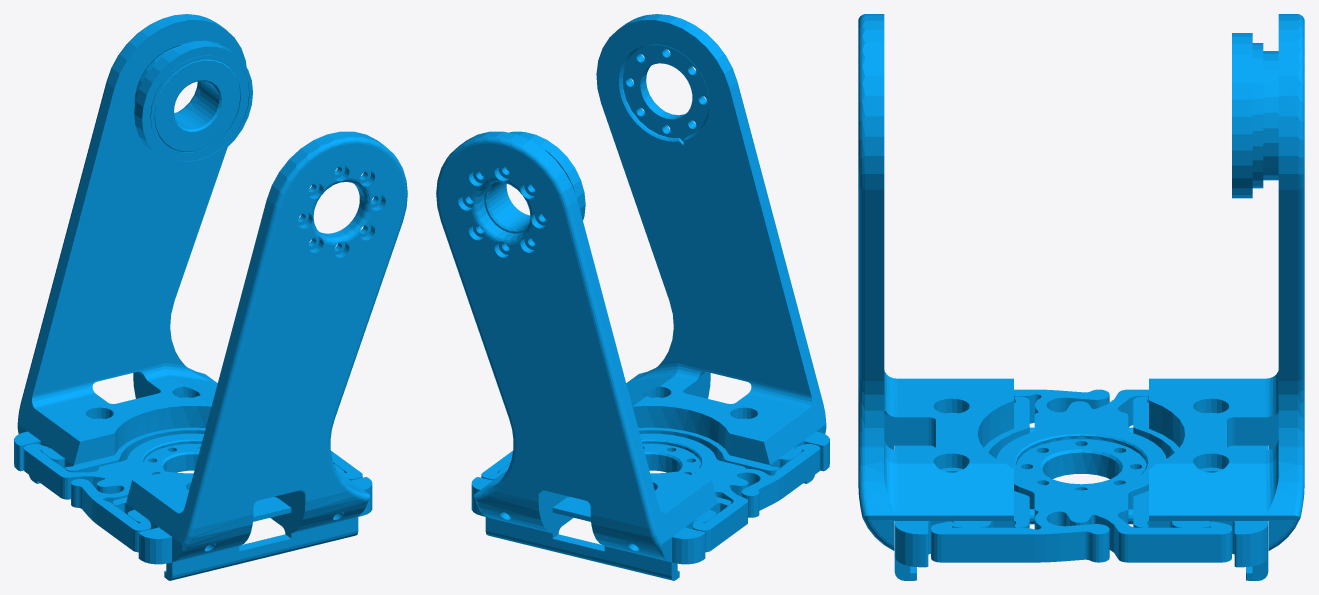
Rendered from flange_c_long_new.dae.
3 renders of one model, left to right at view 1: azimuth 30°, elevation 25°; view 2: azimuth 150°, elevation 25°; view 3: azimuth 270°, elevation 25°, orthographic. The views are drawn at different scales.
Visible parts, largest first — view 1: flange_c_long_new; view 2: flange_c_long_new; view 3: flange_c_long_new.
Part boxes in pixels (x1,y1,x2,y2): flange_c_long_new: (14, 14, 407, 580); flange_c_long_new: (436, 14, 829, 580); flange_c_long_new: (858, 14, 1304, 580).
Bounding box in the file's own units: 70.59 × 86 × 114.
